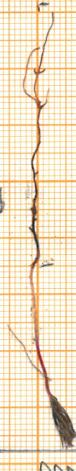flower: (36, 393, 76, 453)
root: (19, 9, 62, 266)
stem: (25, 266, 54, 392)
